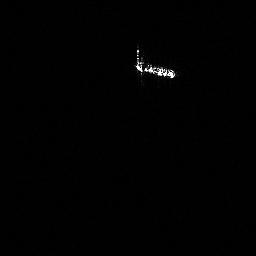ship: (131, 40, 179, 81)
